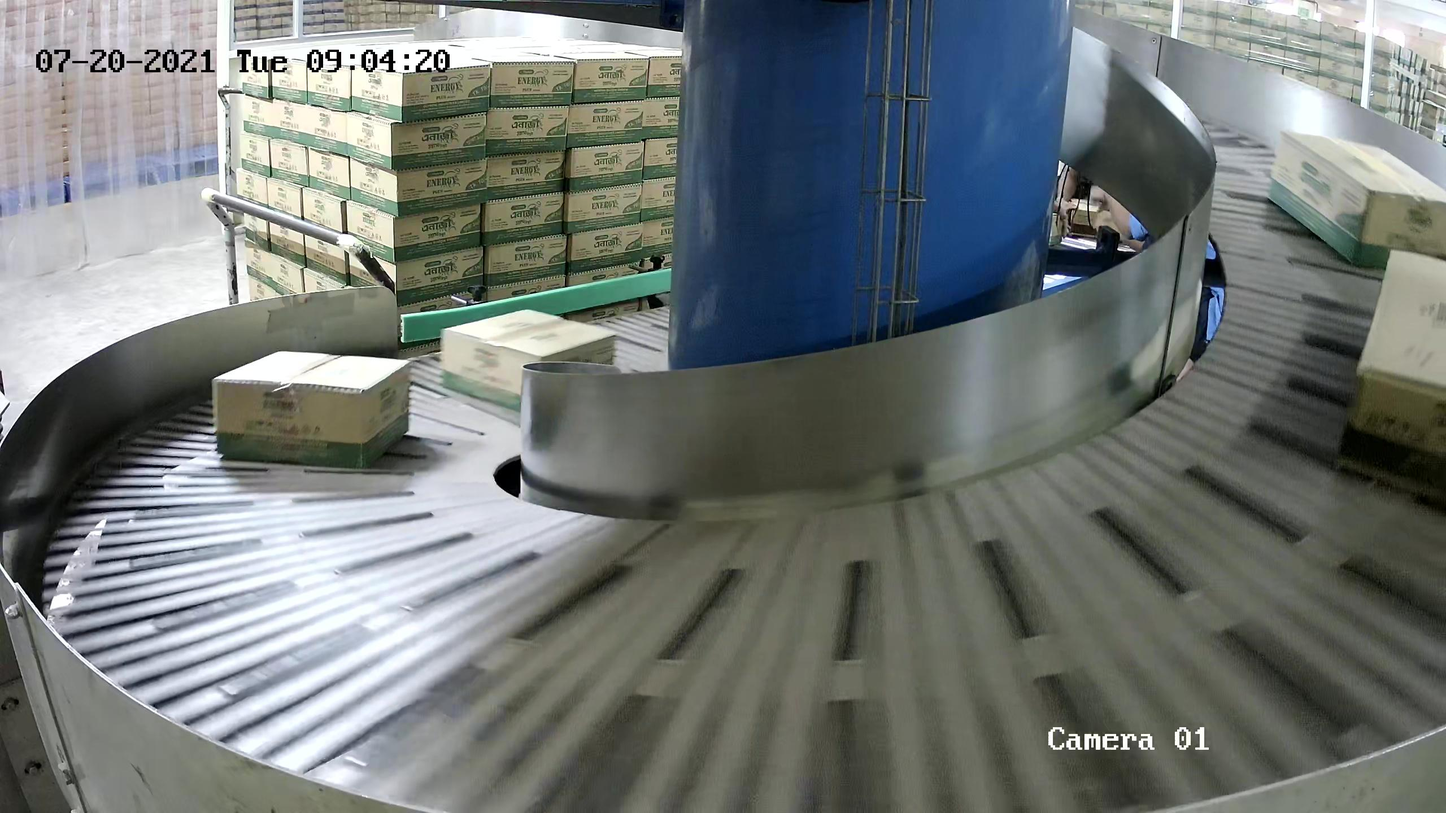Box: (1333, 246, 1446, 512), (1263, 129, 1446, 277), (211, 349, 413, 471), (441, 305, 618, 414)
